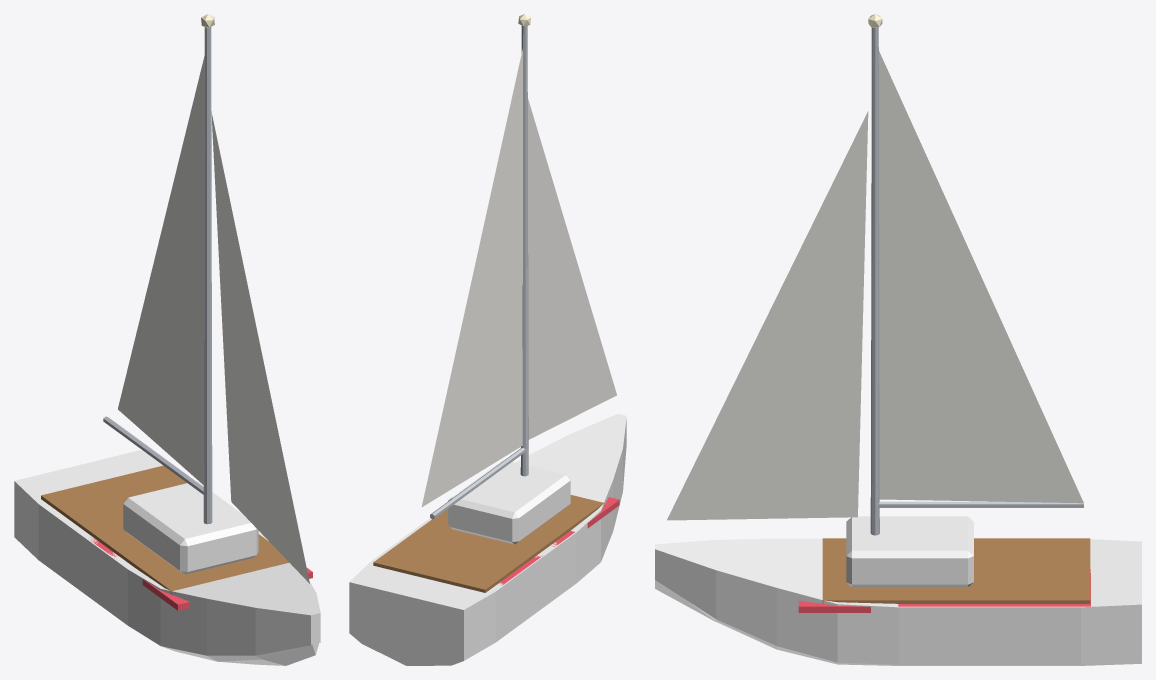
Rendered from ship-sail.glb.
The picture shows the model from 3 angles, left to right: view 1: azimuth 30°, elevation 25°; view 2: azimuth 150°, elevation 25°; view 3: azimuth 270°, elevation 25°; orthographic projection. The views are drawn at different scales.
Visible parts, largest first — view 1: Hull, Main, Jib, Deck, Cabin, Mast, Boom, Sheer; view 2: Hull, Main, Jib, Deck, Cabin, Mast, Boom, Sheer; view 3: Main, Jib, Hull, Deck, Cabin, Mast, Boom, Sheer.
Part boxes in pixels (<box>): Hull: <box>14,450,320,665</box>; Main: <box>118,56,204,484</box>; Jib: <box>211,111,309,583</box>; Deck: <box>41,465,288,594</box>; Cabin: <box>123,481,258,574</box>; Mast: <box>203,27,212,524</box>; Boom: <box>103,416,203,494</box>; Sheer: <box>90,537,312,610</box>; Hull: <box>349,414,626,665</box>; Main: <box>421,48,522,506</box>; Jib: <box>528,99,616,439</box>; Deck: <box>373,495,604,592</box>; Cabin: <box>448,459,570,544</box>; Mast: <box>520,26,528,476</box>; Boom: <box>430,447,525,519</box>; Sheer: <box>499,497,619,585</box>; Main: <box>878,50,1083,503</box>; Jib: <box>667,111,868,520</box>; Hull: <box>655,538,1141,665</box>; Deck: <box>822,538,1090,603</box>; Cabin: <box>846,516,973,586</box>; Mast: <box>870,27,879,535</box>; Boom: <box>878,501,1083,507</box>; Sheer: <box>798,569,1090,612</box>.
Bounding box in the file's own units: 1.4 × 6.07 × 4.2.
